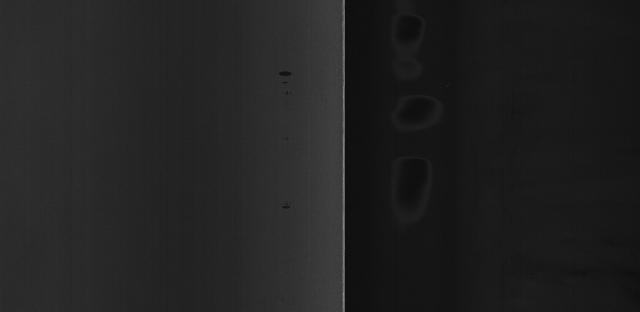oil_spot: (275, 57, 302, 108), (275, 195, 305, 219)
